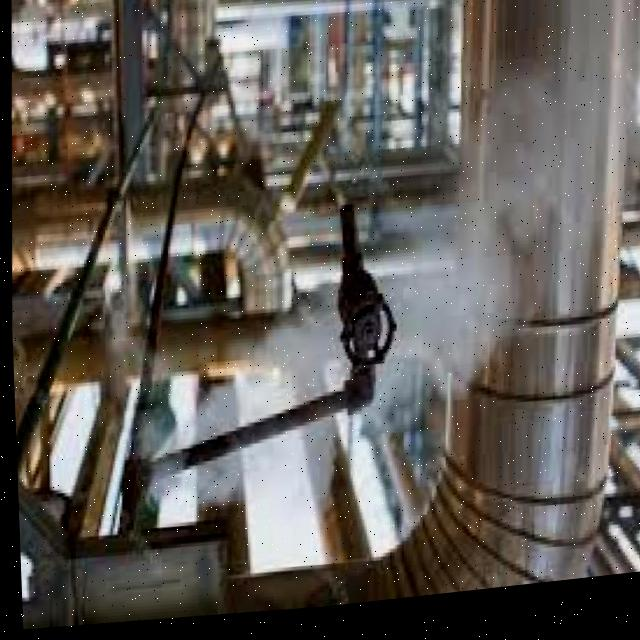corrosion: (100, 163, 478, 523)
